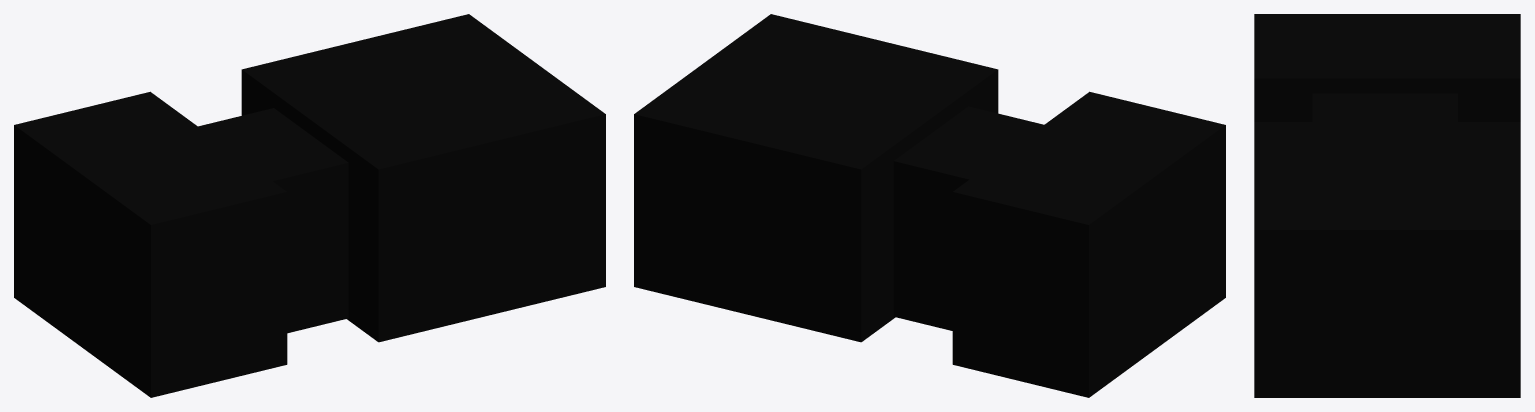
File: SM_BuildingVista_03.fbx
3 views of the same model, side by side, from view 1: azimuth 30°, elevation 25°; view 2: azimuth 150°, elevation 25°; view 3: azimuth 270°, elevation 25° (orthographic). The views are drawn at different scales.
Visible parts, largest first — view 1: SM_BuildingVista_03; view 2: SM_BuildingVista_03; view 3: SM_BuildingVista_03.
Part boxes in pixels (<box>): SM_BuildingVista_03: <box>14,14,605,397</box>; SM_BuildingVista_03: <box>634,14,1225,397</box>; SM_BuildingVista_03: <box>1254,14,1520,397</box>.
Bounding box in the file's own units: 32.9 × 11.95 × 17.14.
